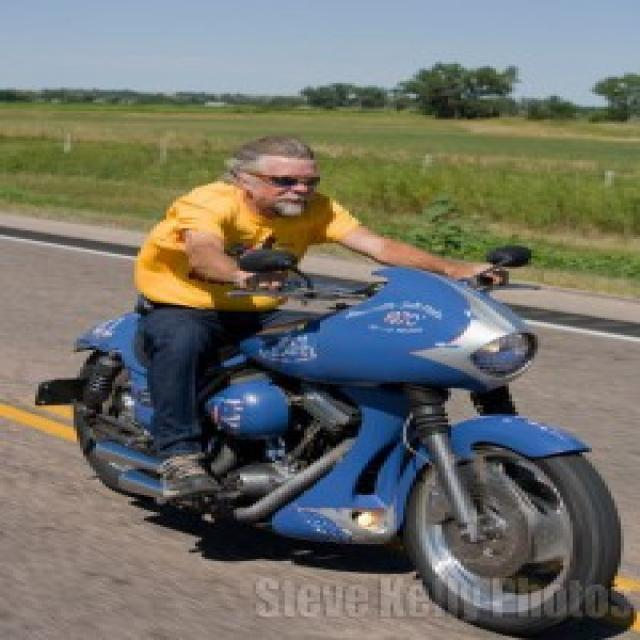Not Wearing Helmet: (197, 114, 371, 249)
